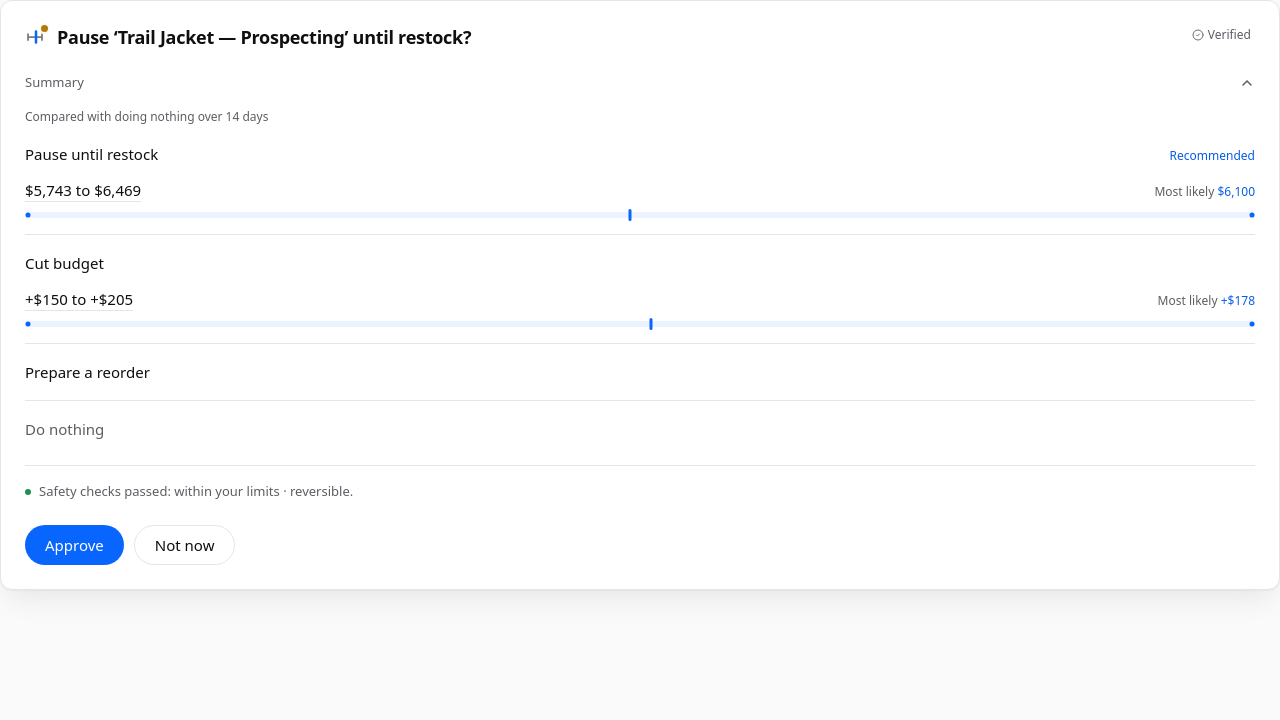
Test: the permission card › folds its summary away and back
Click the button "Summary" at point(54, 82), box [25,73,1255,93]
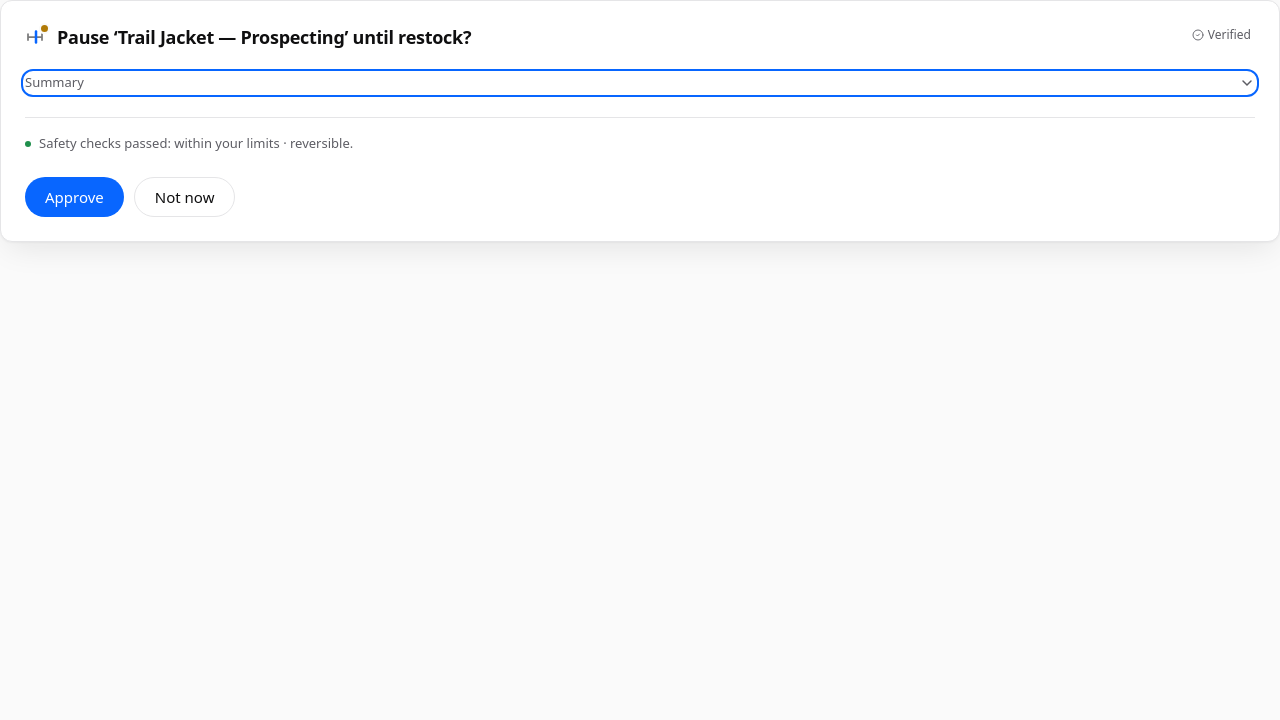
Check: the button "Summary" is collapsed
Check: the text "Compared with doing nothing over 14 days" is gone
Click the button "Summary" at point(54, 82), box [25,73,1255,93]
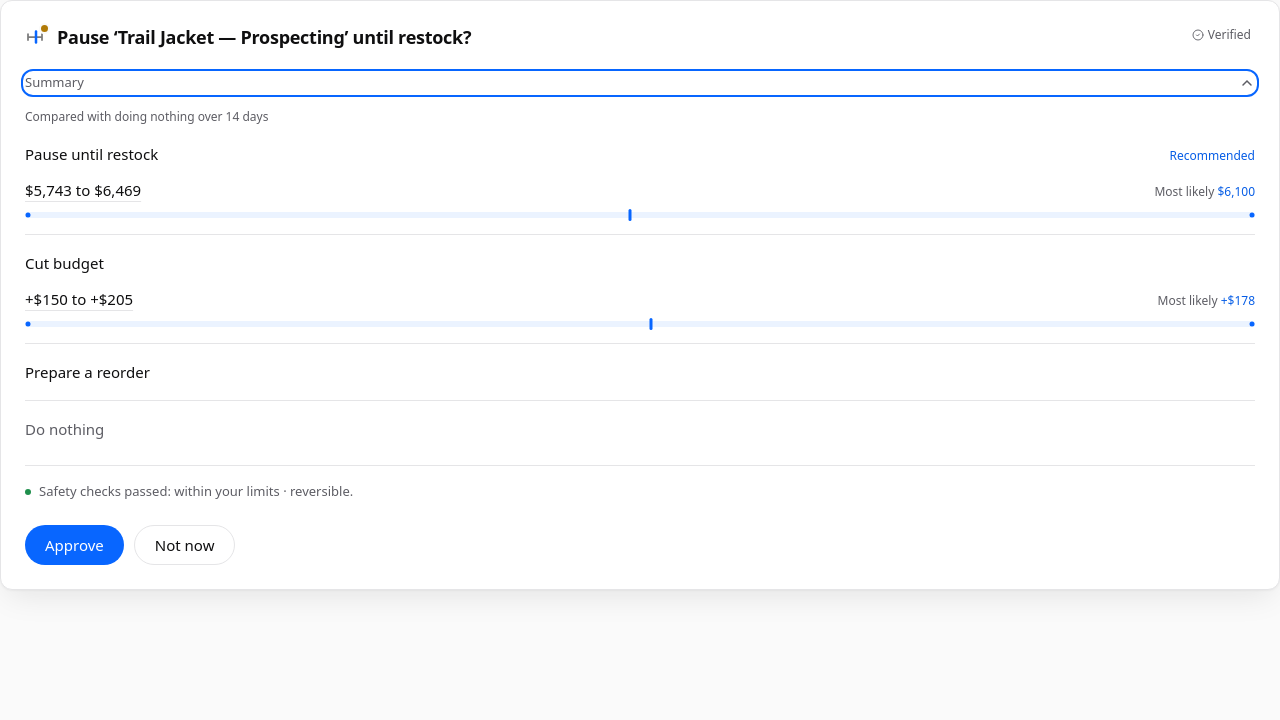
Check: the text "Compared with doing nothing over 14 days" is shown, box [25,108,268,125]
